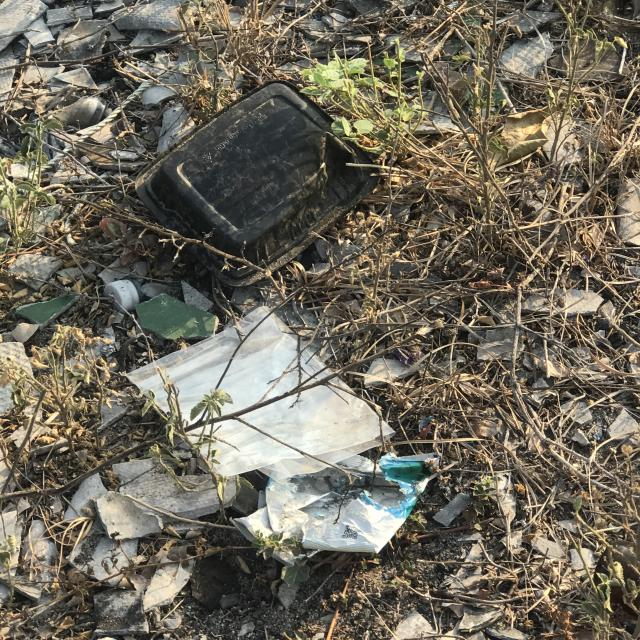Single-layer Plastic: (128, 306, 394, 479)
